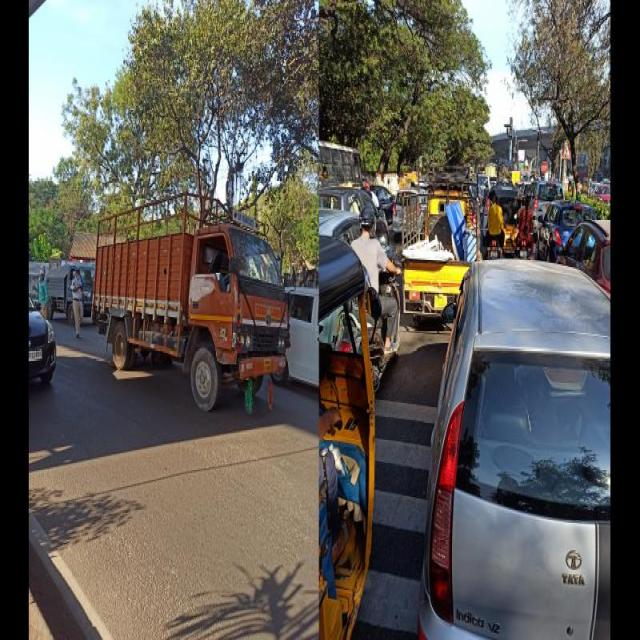car: (419, 259, 610, 637)
truck: (92, 192, 289, 411), (269, 382, 272, 407)
